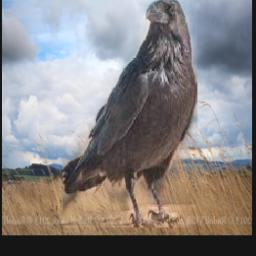Crow: (63, 0, 197, 228)
